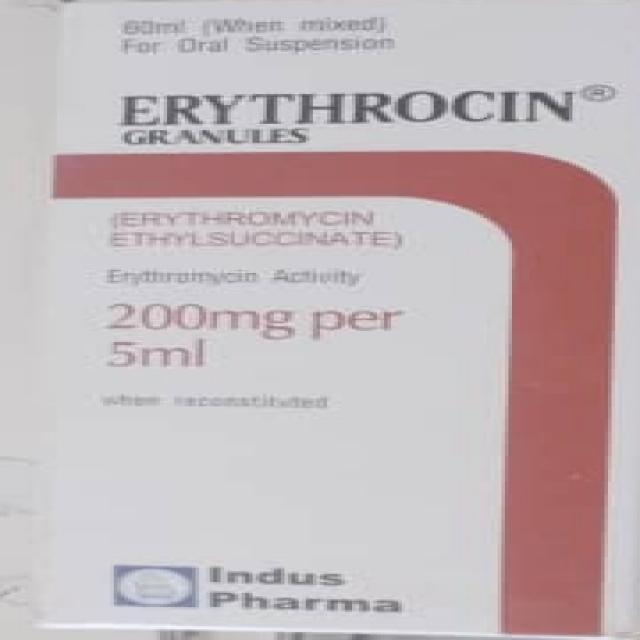drug-name: (117, 86, 578, 132)
